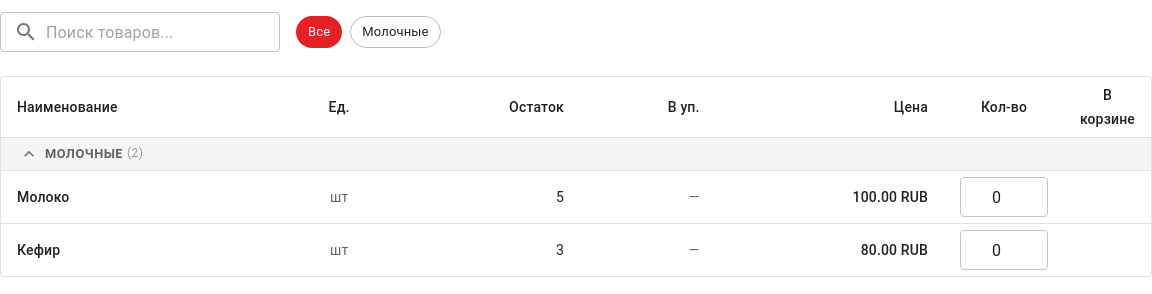
Scenario: ProductsPage › expands category again after second click
The image size is (1152, 294).
Check: the text "Молоко" is shown, box [17,189,69,205]
Click the text "Молочные" below "Наименование" at (84, 154), box [45,145,123,163]
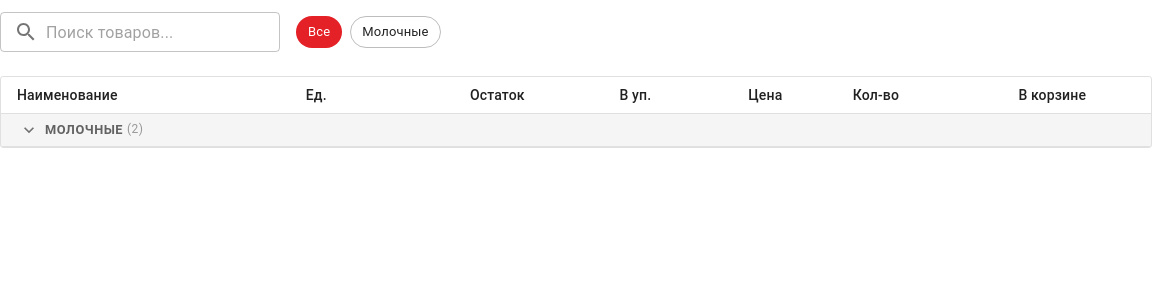
Check: the text "Молоко" is gone
Click the text "Молочные" below "Наименование" at (84, 130), box [45,121,123,139]
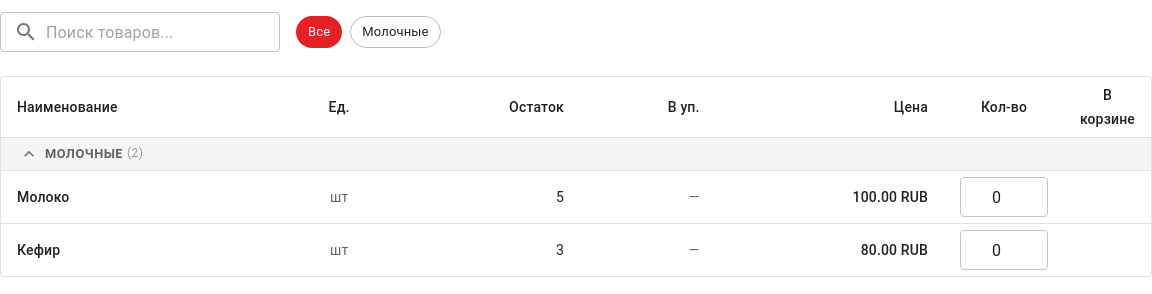
Check: the text "Молоко" is shown, box [17,189,69,205]
